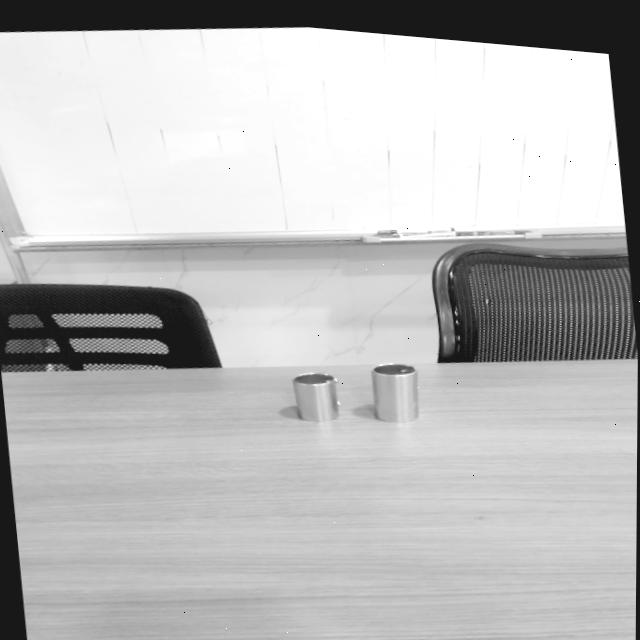Co_Lon: (371, 362, 419, 423)
Co_Nho: (292, 370, 340, 423)
